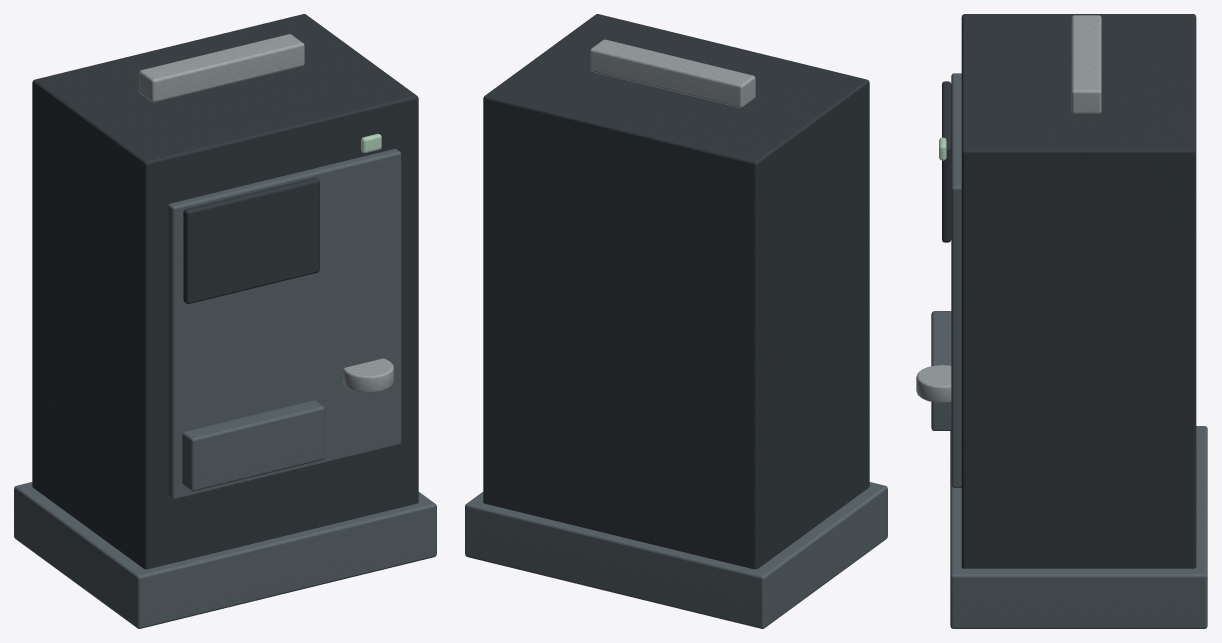
Rendered from AirSamplingAnalyzer.glb.
3 views of the same model, side by side, from view 1: azimuth 30°, elevation 25°; view 2: azimuth 150°, elevation 25°; view 3: azimuth 270°, elevation 25° (orthographic). The views are drawn at different scales.
Parts seen in each view (by area): view 1: AirSamplingAnalyzer_Mesh; view 2: AirSamplingAnalyzer_Mesh; view 3: AirSamplingAnalyzer_Mesh.
Boxes of the visible parts, left/top/right/bottom form: AirSamplingAnalyzer_Mesh: left=14, top=14, right=436, bottom=628; AirSamplingAnalyzer_Mesh: left=465, top=14, right=887, bottom=628; AirSamplingAnalyzer_Mesh: left=916, top=14, right=1207, bottom=628.
Size of the model in its own units: 0.94 by 1.46 by 0.77.
Materials: 4 (4 with a texture image).
